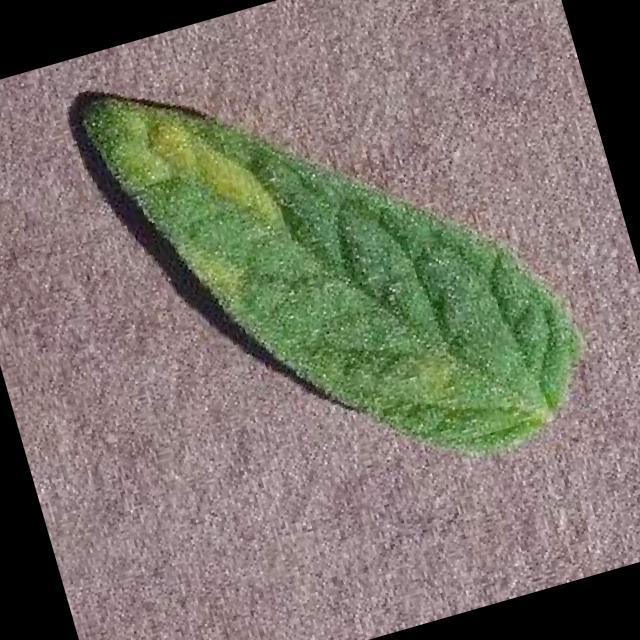Tomato mold leaf: (68, 0, 602, 528)
